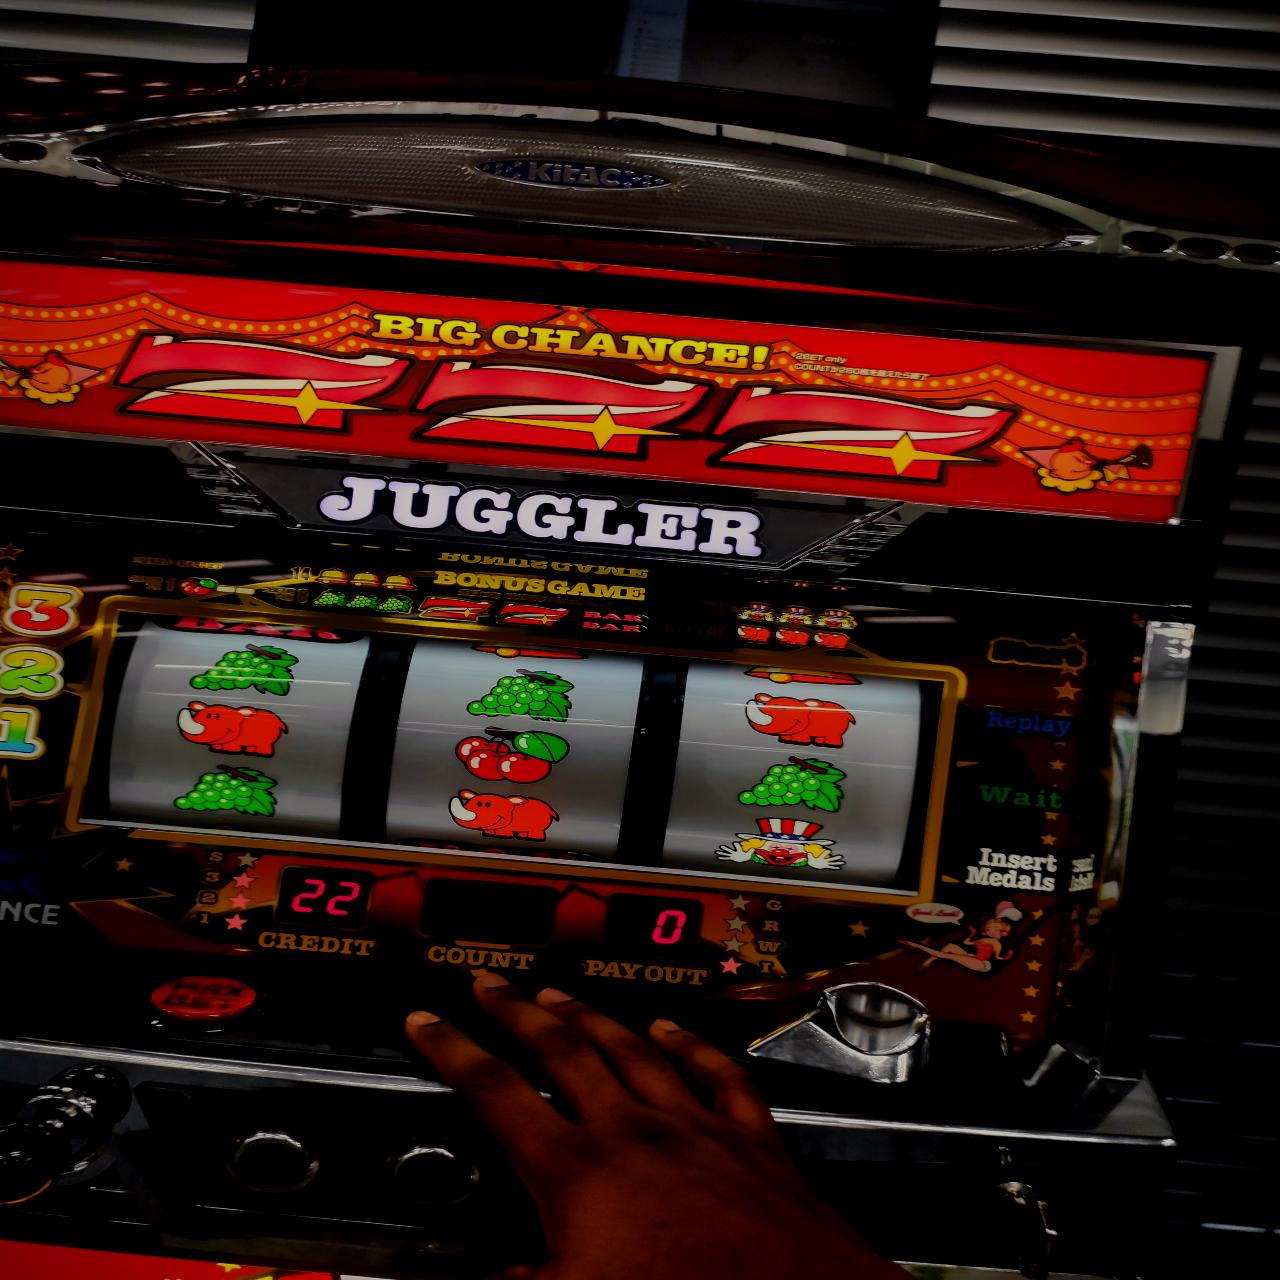8: (175, 697, 292, 756), (745, 690, 863, 747), (449, 789, 568, 844)
Display: (101, 605, 924, 897)
cherry: (450, 723, 570, 782)
clown: (712, 817, 849, 876)
grape: (735, 751, 846, 813), (172, 762, 285, 817), (465, 667, 573, 721), (183, 644, 293, 695)
